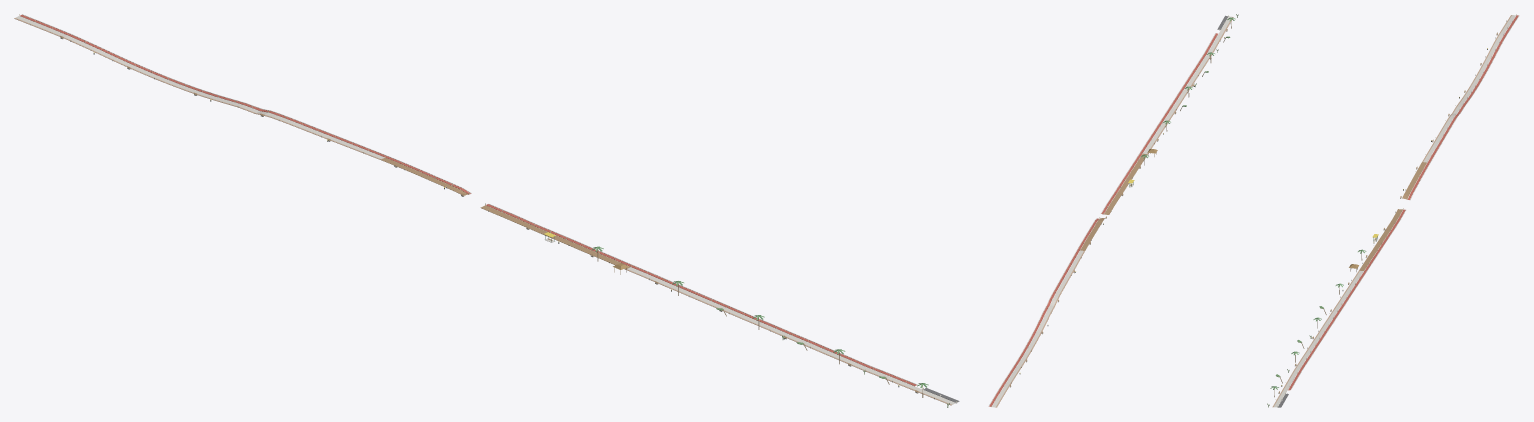
File: nw_mk_south.glb
3 views of the same model, side by side, from view 1: azimuth 30°, elevation 25°; view 2: azimuth 150°, elevation 25°; view 3: azimuth 330°, elevation 25° (orthographic). The views are drawn at different scales.
Visible parts, largest first — view 1: nw_mk_south_lod0; view 2: nw_mk_south_lod0; view 3: nw_mk_south_lod0.
Boxes of the visible parts, box(x1,y1,x2,y2) form: nw_mk_south_lod0: box(14, 14, 959, 407); nw_mk_south_lod0: box(988, 14, 1238, 407); nw_mk_south_lod0: box(1267, 14, 1519, 407).
Size of what is drawn, in the model's own units: 132 by 7.03 by 458.
